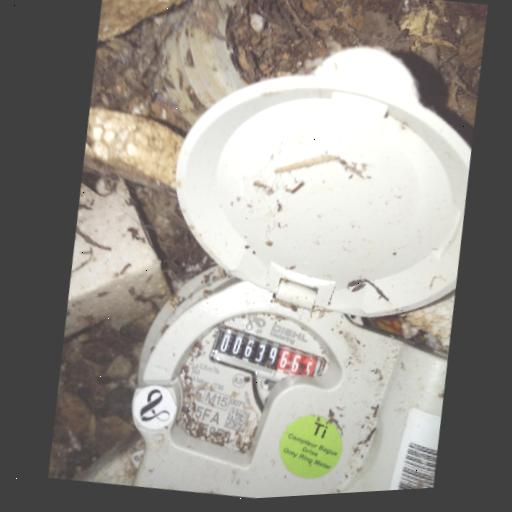0: (225, 329, 248, 360), (213, 325, 236, 355)
3: (250, 338, 272, 368)
5: (298, 353, 319, 379)
6: (236, 333, 260, 363), (272, 346, 294, 375), (285, 350, 306, 377)
9: (261, 343, 284, 372)
border_water_meter_number: (204, 315, 332, 401)
